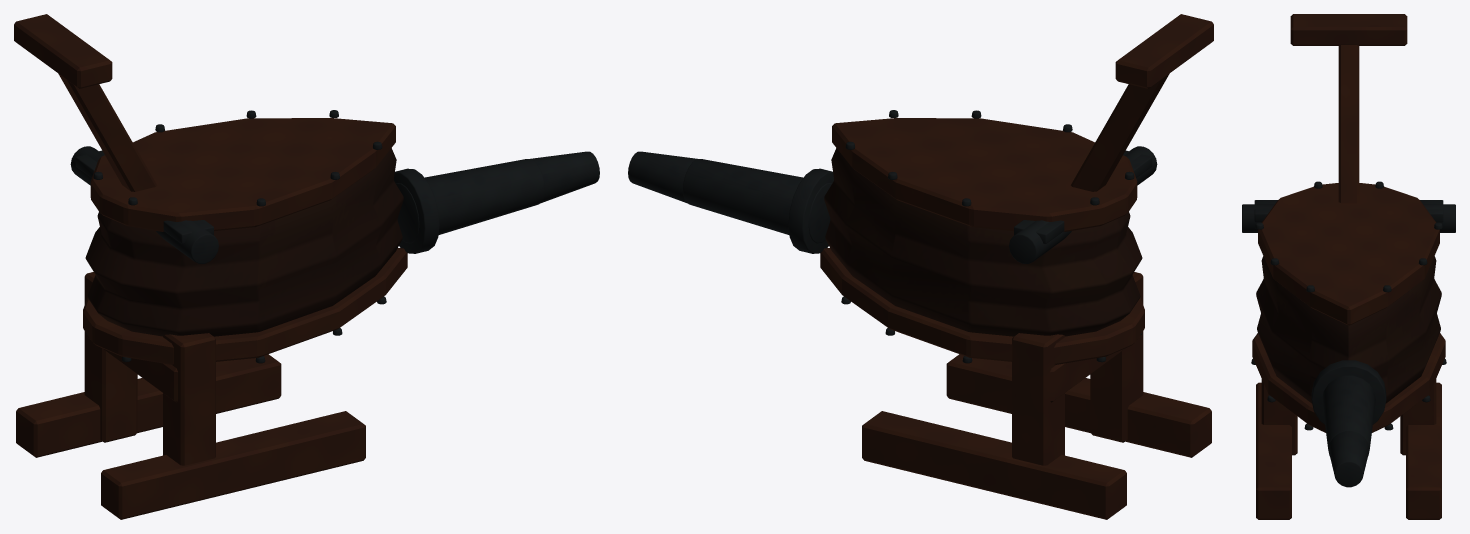
The model's file is smithy_bellows.glb.
3 views of the same model, side by side, from view 1: azimuth 30°, elevation 25°; view 2: azimuth 150°, elevation 25°; view 3: azimuth 270°, elevation 25° (orthographic). The views are drawn at different scales.
Visible parts, largest first — view 1: OakBoardsAndStand, PleatedLeatherBag, NozzleHingeAndTacks; view 2: OakBoardsAndStand, PleatedLeatherBag, NozzleHingeAndTacks; view 3: OakBoardsAndStand, PleatedLeatherBag, NozzleHingeAndTacks.
Part boxes in pixels (<box>): OakBoardsAndStand: <box>14,14,407,519</box>; PleatedLeatherBag: <box>85,148,403,336</box>; NozzleHingeAndTacks: <box>70,110,599,363</box>; OakBoardsAndStand: <box>820,14,1213,519</box>; PleatedLeatherBag: <box>824,148,1142,336</box>; NozzleHingeAndTacks: <box>628,110,1157,363</box>; OakBoardsAndStand: <box>1252,14,1445,519</box>; PleatedLeatherBag: <box>1256,256,1441,403</box>; NozzleHingeAndTacks: <box>1242,181,1455,487</box>.
Size of the model in its own units: 2.01 by 1.56 by 0.77.
Materials: 3 (3 with a texture image).
